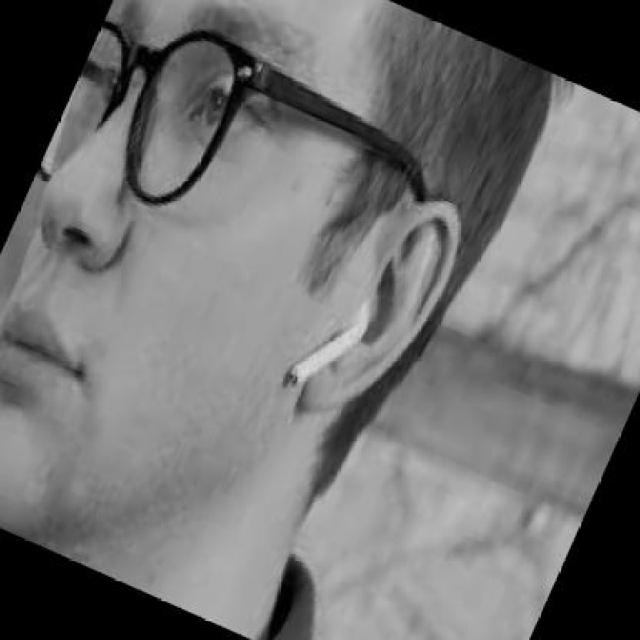earphone: (282, 288, 384, 384)
